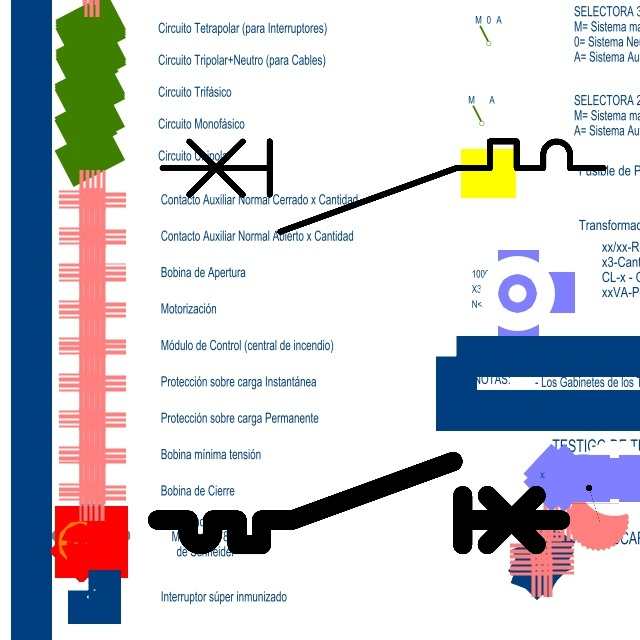interruptor_termomagnetico: (151, 130, 615, 243), (147, 451, 571, 555)
